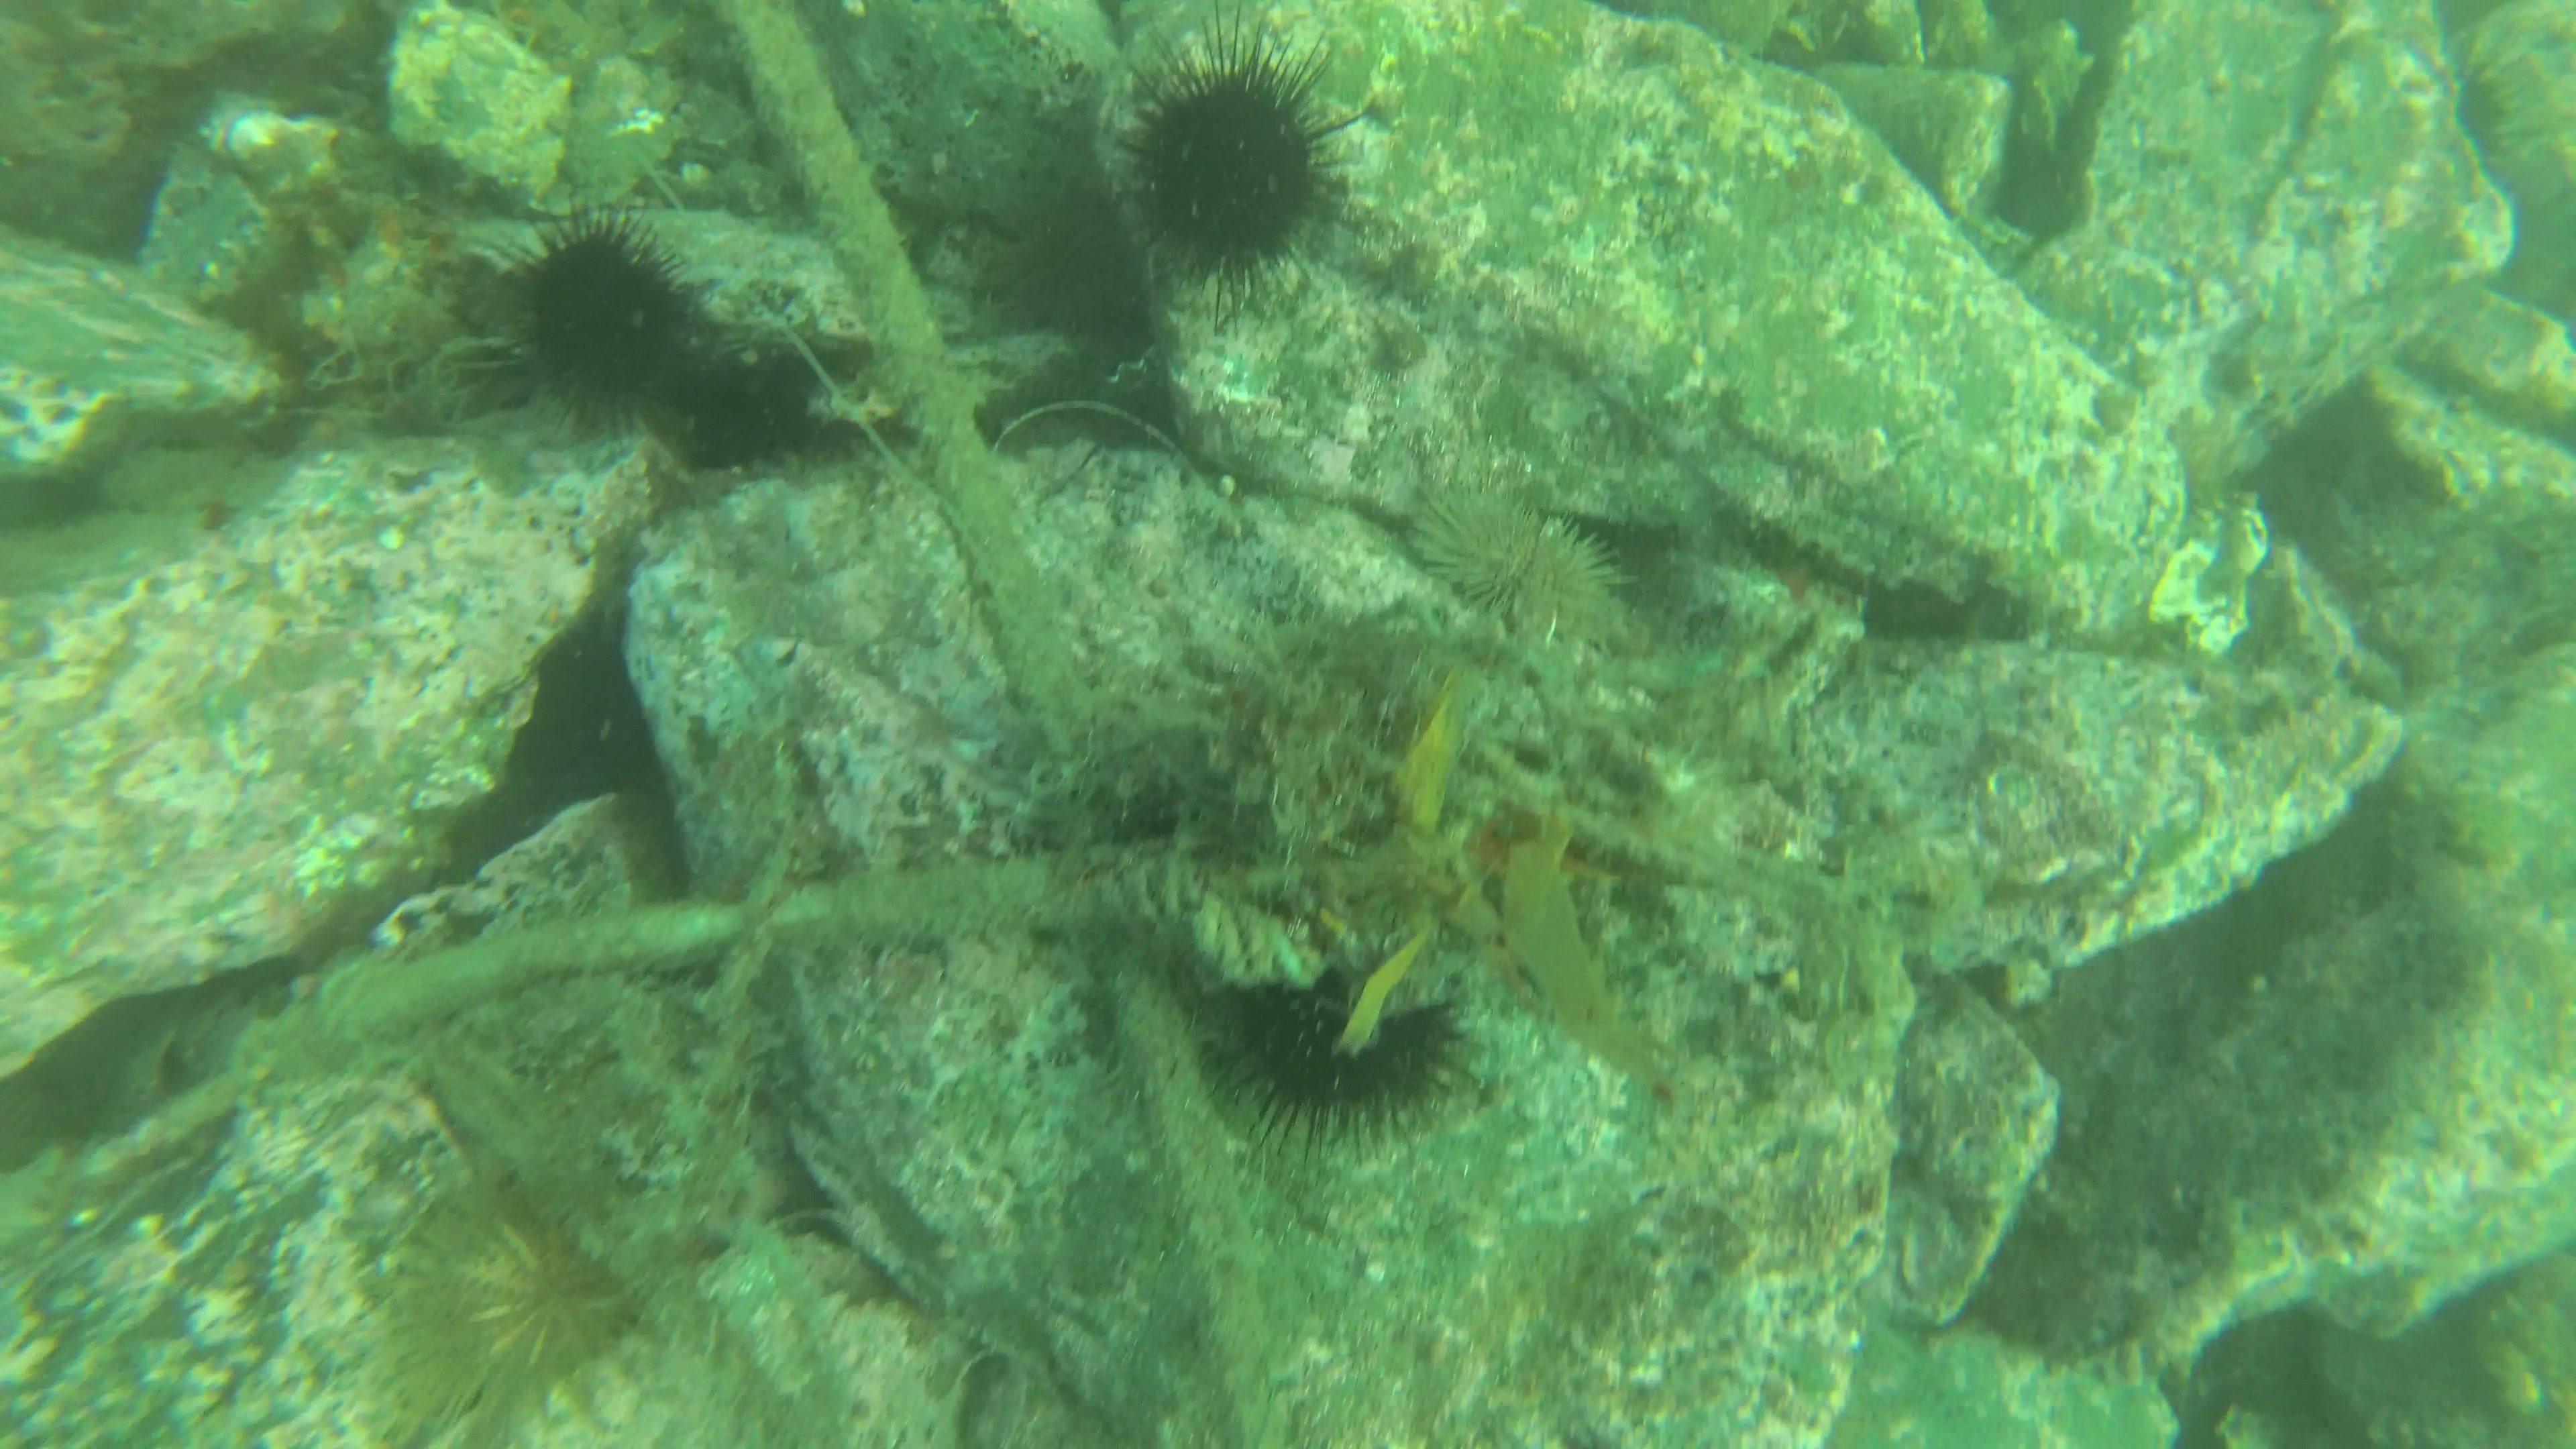echinus: (1095, 5, 1375, 297), (370, 1169, 648, 1430), (1201, 925, 1468, 1180), (1415, 467, 1628, 658), (495, 205, 694, 395), (695, 320, 856, 495)
